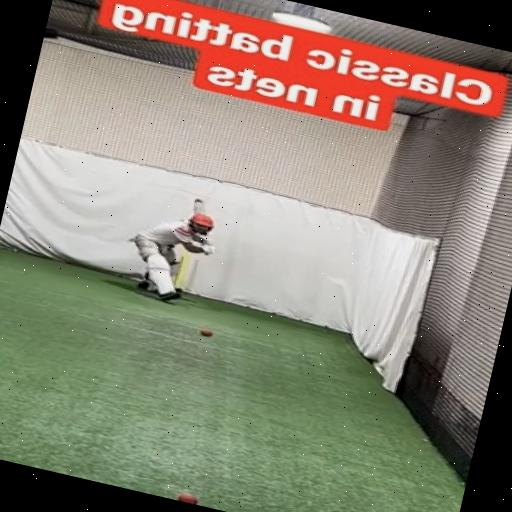Cricket bat: (196, 200, 204, 213)
